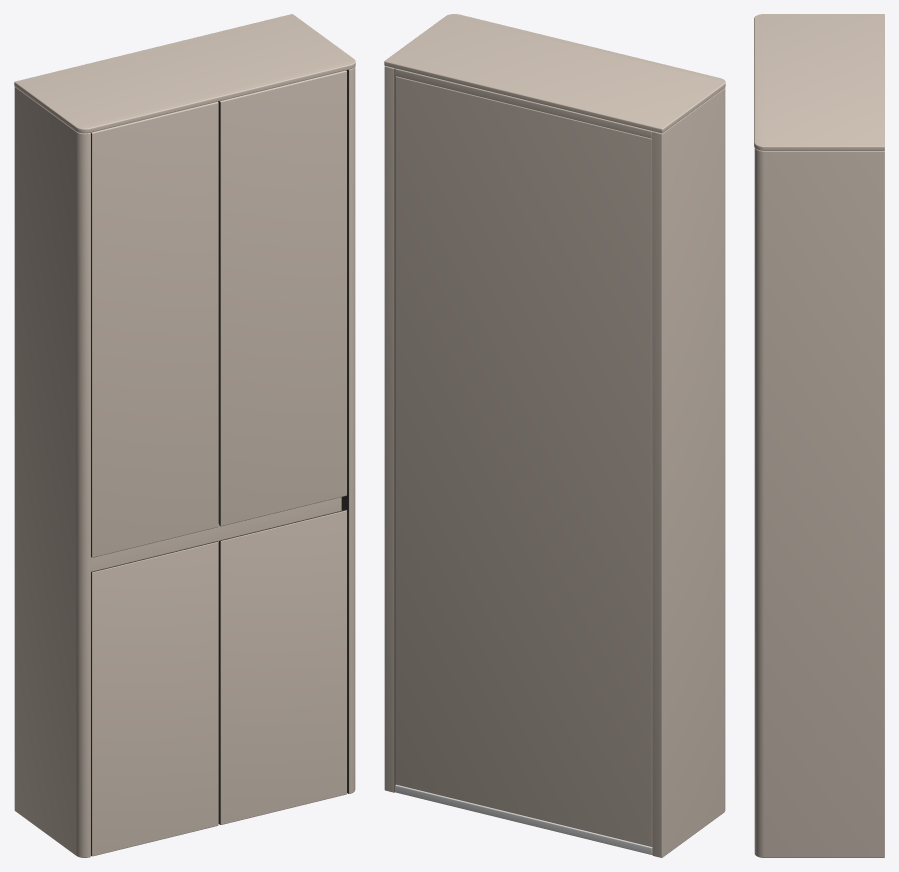
The picture shows the model from 3 angles, left to right: view 1: azimuth 30°, elevation 25°; view 2: azimuth 150°, elevation 25°; view 3: azimuth 270°, elevation 25°; orthographic projection. The views are drawn at different scales.
Visible parts, largest first — view 1: ER12; view 2: ER12; view 3: ER12.
Part boxes in pixels (left/top/right/bottom): ER12: left=14, top=14, right=355, bottom=857; ER12: left=384, top=14, right=725, bottom=857; ER12: left=754, top=14, right=884, bottom=857.
Size of the model in its own units: 0.6 by 1.5 by 0.25.
